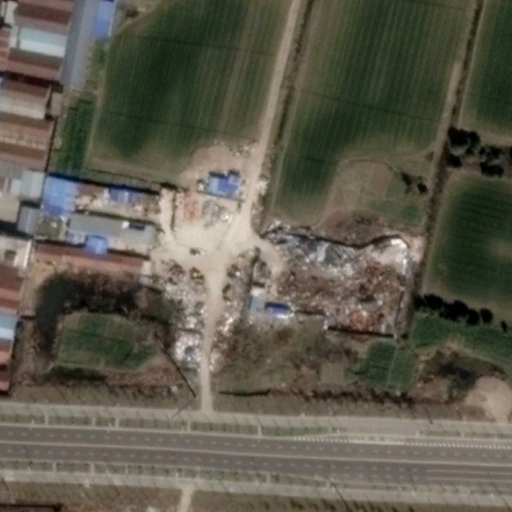msw: (256, 232, 418, 340), (162, 256, 253, 372)
